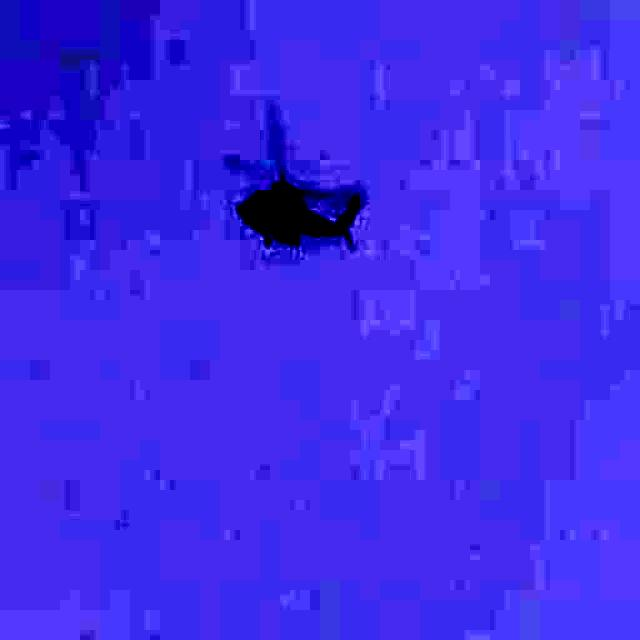drone: (232, 124, 371, 290)
